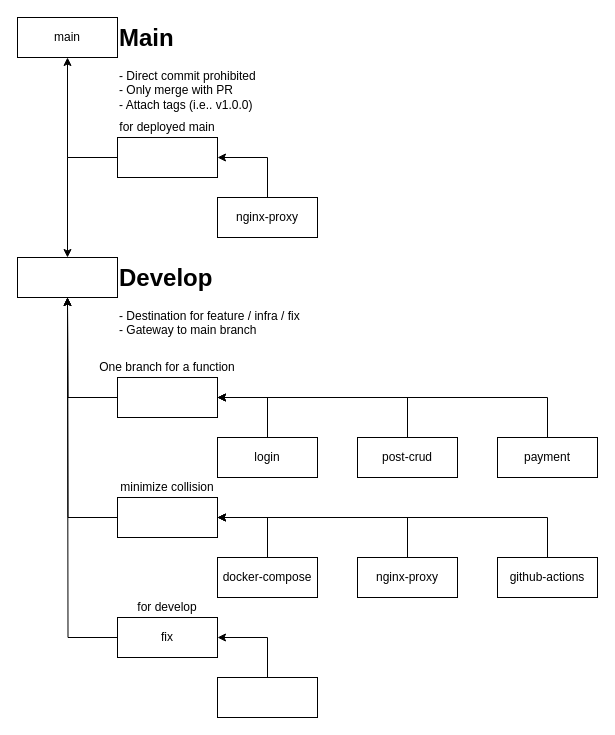
Image size: 615x735. Some labels were removed from this diagram. Each missing label, with the centre of its shape:
"develop" goes at point 67,277.
"feature" goes at point 167,397.
"hotfix" goes at point 167,157.
"infra" goes at point 167,517.
"login-validation" goes at point 267,697.
